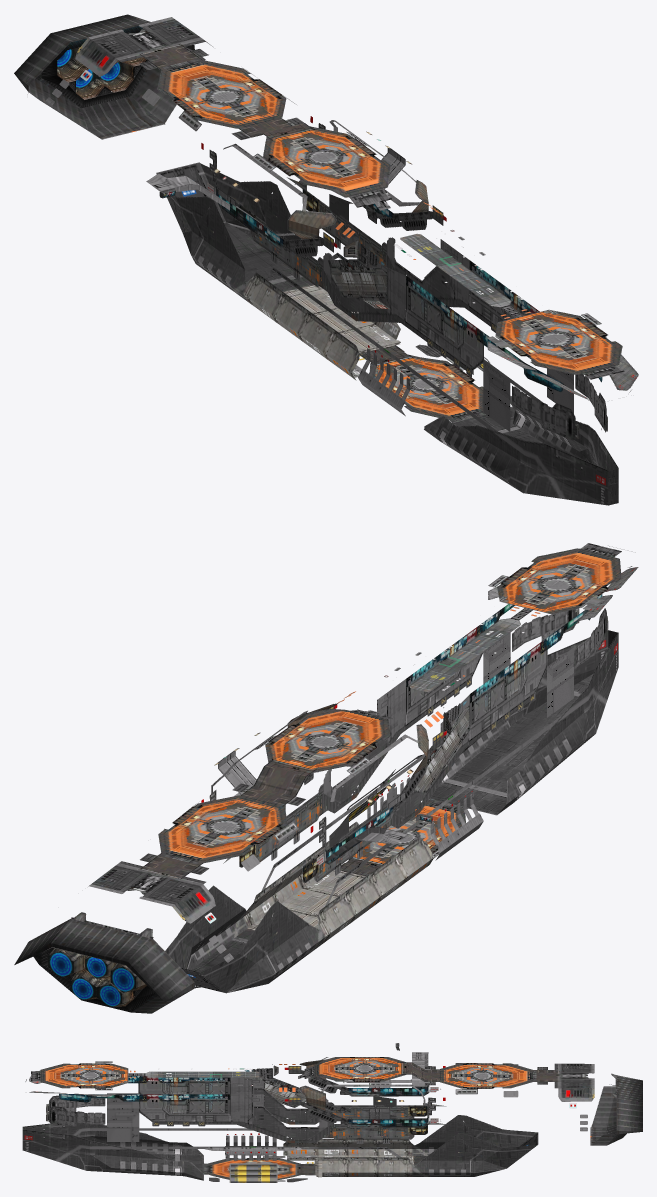
The picture shows the model from 3 angles, top to bottom: view 1: azimuth 30°, elevation 25°; view 2: azimuth 150°, elevation 25°; view 3: azimuth 270°, elevation 25°; orthographic projection. The views are drawn at different scales.
Parts seen in each view (by area): view 1: Hgn_Front, Hgn_Leftover, badge2, badge; view 2: Hgn_Front, Hgn_Leftover, Hgn_Burner, badge2, badge; view 3: Hgn_Front, Hgn_Leftover, badge, badge2.
Part boxes in pixels (x1,y1,x2,y2): Hgn_Front: (27,17,624,505); Hgn_Leftover: (14,14,638,401); badge2: (483,362,510,431); badge: (547,368,573,413); Hgn_Front: (70,543,621,1013); Hgn_Leftover: (14,545,638,1012); Hgn_Burner: (48,951,135,1007); badge2: (547,647,573,717); badge: (483,632,510,683); Hgn_Front: (22,1043,626,1182); Hgn_Leftover: (25,1064,642,1134); badge: (107,1111,139,1141); badge2: (107,1093,139,1111).
Bounding box in the file's own units: 104 × 68.23 × 397.
